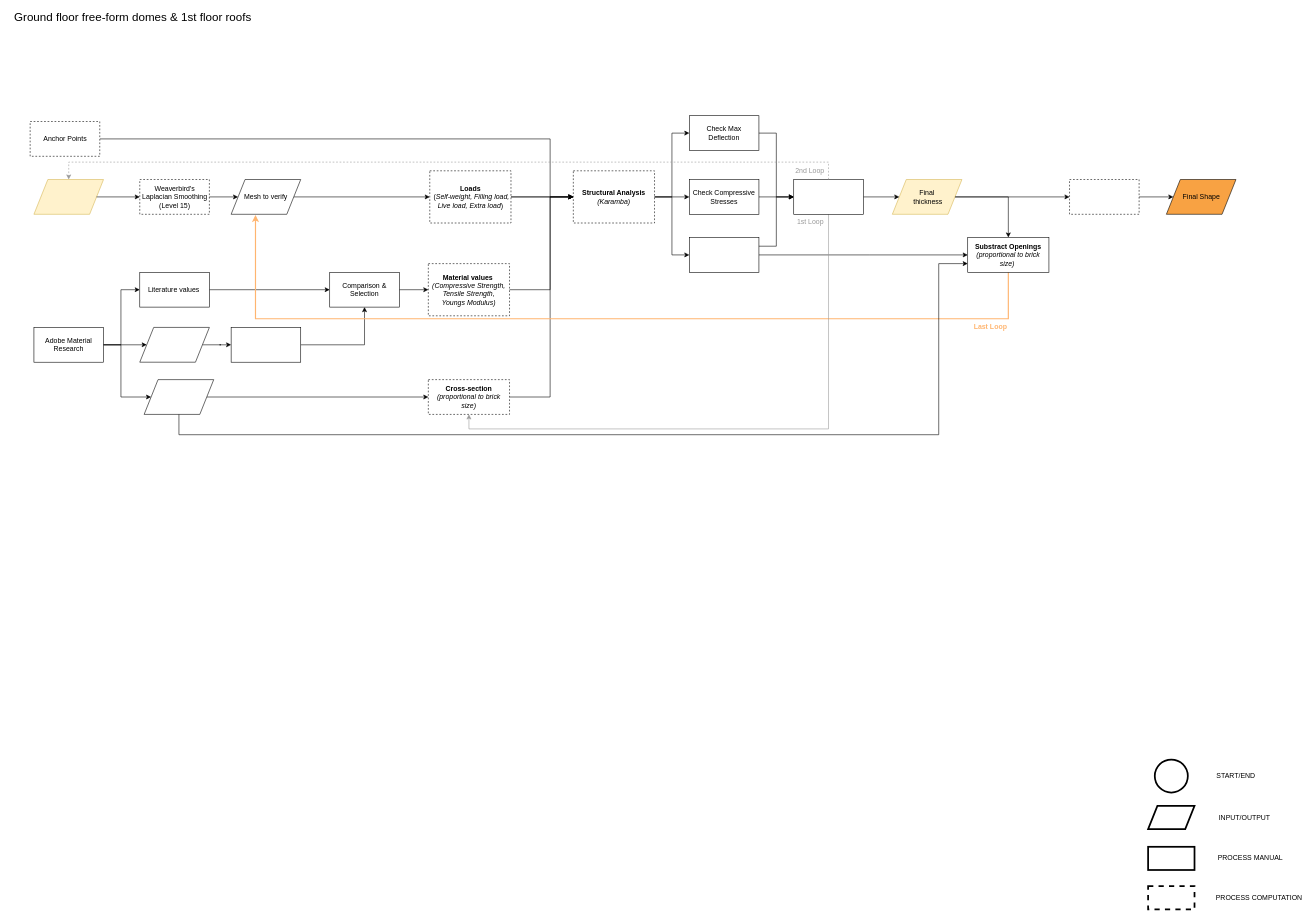
The diagram is 1315 pixels wide and 920 high, and some of its shapes have lost their labels. Each missing label, with the centre of its shape:
"Additives" goes at point (174, 344).
"Brick Size" goes at point (179, 396).
"Check Tensile Stresses" goes at point (724, 254).
"Material Testing" goes at point (266, 344).
"Offset" goes at point (1104, 196).
"Relaxed Form" goes at point (68, 196).
"Structural Validation" goes at point (828, 196).
